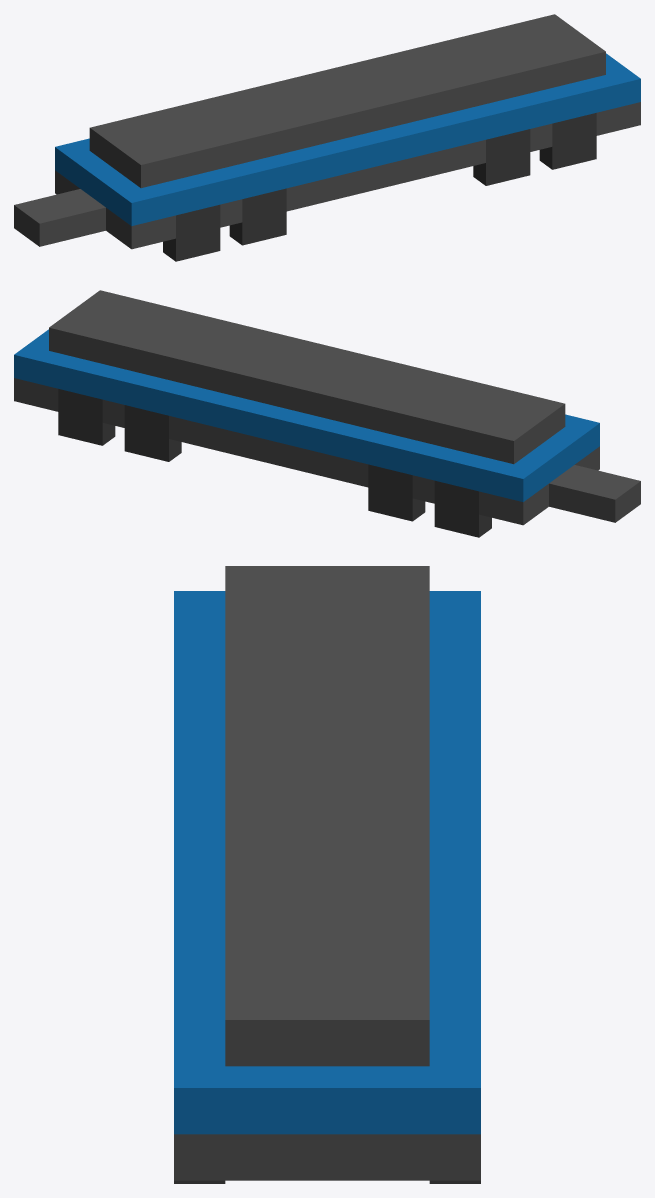
The model's file is train-trailer-v7-blue.gltf.
The picture shows the model from 3 angles, top to bottom: view 1: azimuth 30°, elevation 25°; view 2: azimuth 150°, elevation 25°; view 3: azimuth 270°, elevation 25°; orthographic projection. The views are drawn at different scales.
Parts seen in each view (by area): view 1: model, wheels; view 2: model, wheels; view 3: model.
Boxes of the visible parts, bbox=[...] form: model: bbox=[14, 14, 640, 249]; wheels: bbox=[163, 113, 596, 261]; model: bbox=[14, 290, 640, 525]; wheels: bbox=[58, 389, 491, 537]; model: bbox=[174, 566, 480, 1180].
Size of the model in its own units: 2.6 by 0.4 by 0.6.
2 materials, 2 textured.
